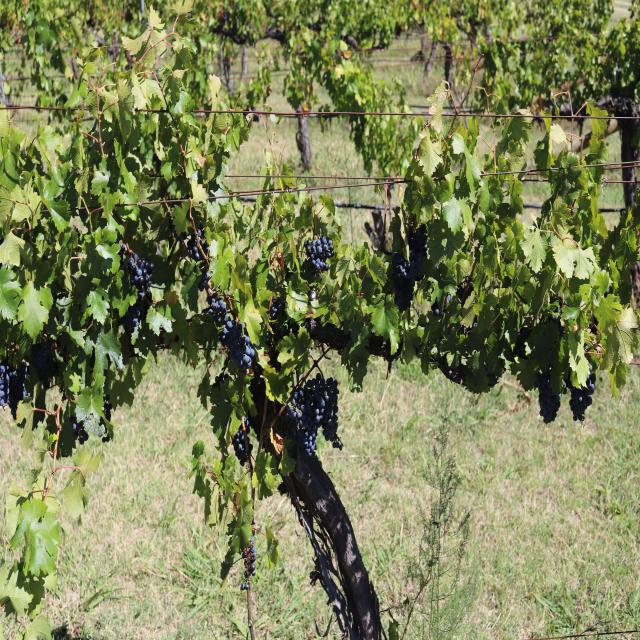grapes: (287, 373, 343, 455), (119, 244, 154, 335), (392, 224, 428, 312), (0, 363, 29, 420), (535, 367, 560, 424), (304, 235, 334, 274), (241, 537, 256, 590)
